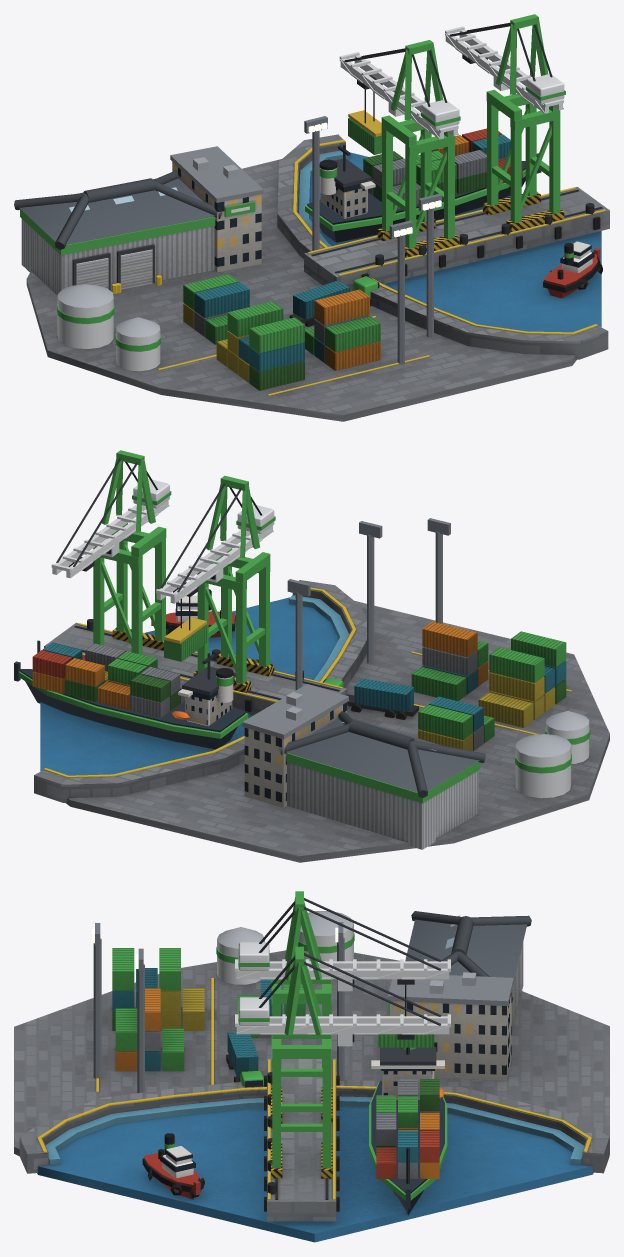
The model's file is port_modern_green.glb.
3 renders of one model, top to bottom at view 1: azimuth 30°, elevation 25°; view 2: azimuth 150°, elevation 25°; view 3: azimuth 270°, elevation 25°, orthographic. The views are drawn at different scales.
Parts seen in each view (by area): view 1: port_modern_green; view 2: port_modern_green; view 3: port_modern_green.
Boxes of the visible parts, x1,y1,x2,y2 form: port_modern_green: (14,14,609,421); port_modern_green: (14,450,609,862); port_modern_green: (14,891,609,1242).
Bounding box in the file's own units: 1.58 × 0.624 × 1.37.
Materials: 2 (1 with a texture image).
